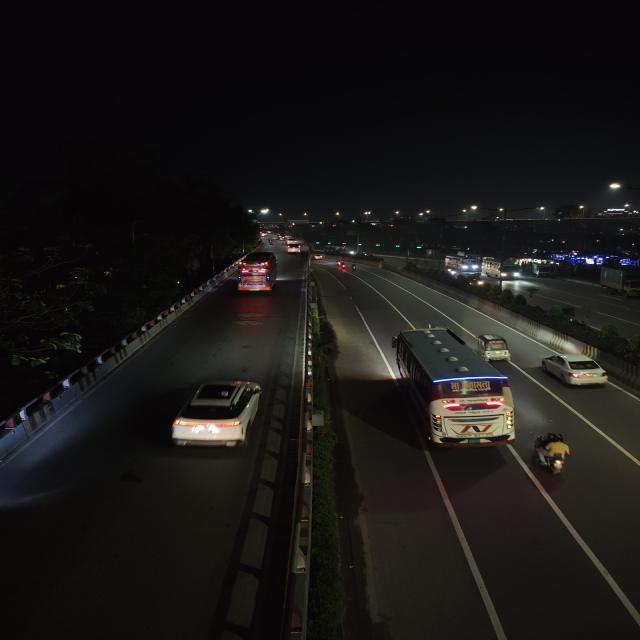bus: (386, 325, 522, 454), (234, 251, 280, 296), (484, 257, 522, 281), (445, 254, 480, 274)
car: (165, 375, 268, 455), (538, 352, 612, 392), (285, 244, 301, 254), (311, 253, 325, 262)
cng: (476, 331, 515, 363)
motorcycle: (530, 430, 580, 480), (336, 262, 348, 272), (348, 263, 358, 273)
truck: (598, 264, 640, 300), (534, 264, 556, 278)
